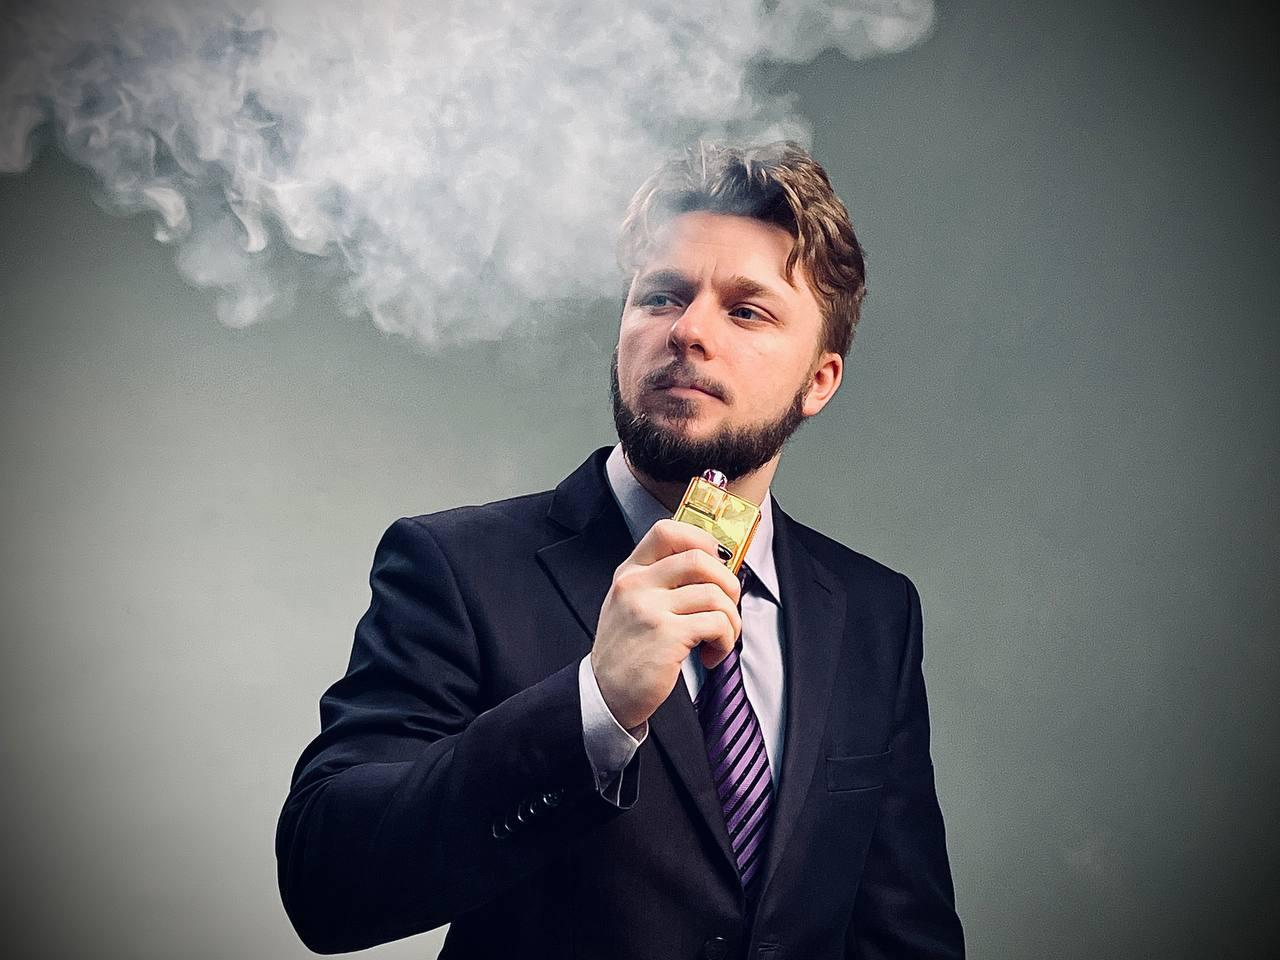Vape: (674, 470, 759, 574)
